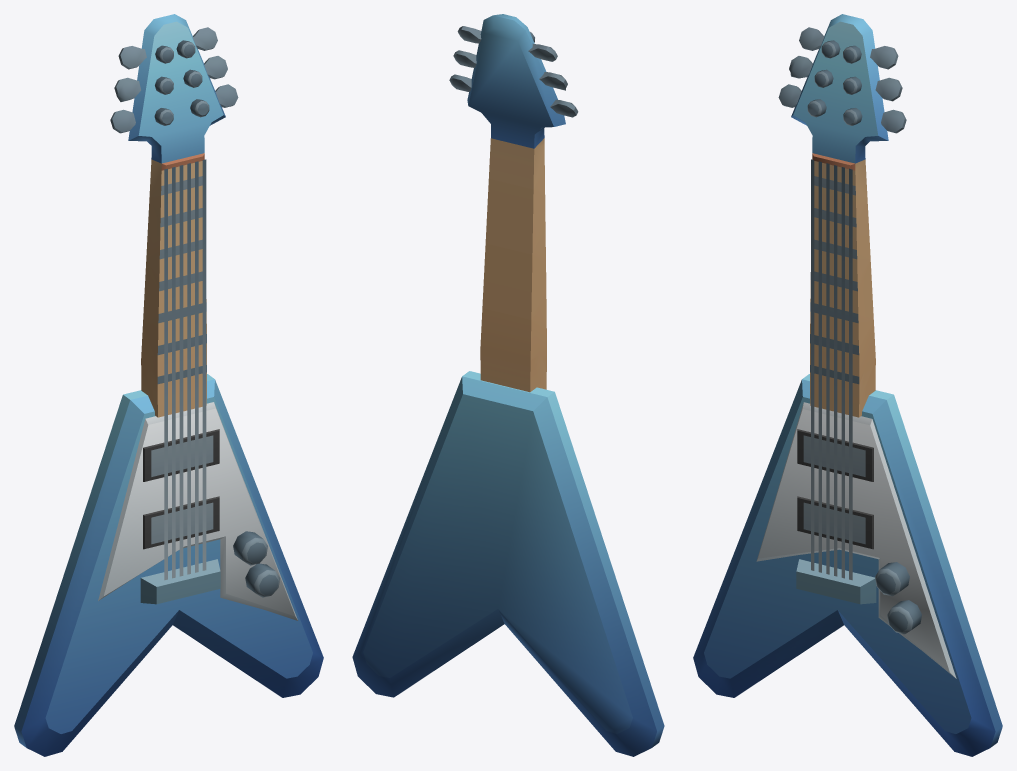
The model's file is guitar_A.glb.
3 renders of one model, left to right at view 1: azimuth 30°, elevation 25°; view 2: azimuth 150°, elevation 25°; view 3: azimuth 330°, elevation 25°, orthographic.
Visible parts, largest first — view 1: guitar_A; view 2: guitar_A; view 3: guitar_A.
Part boxes in pixels (bbox=[...]): guitar_A: bbox=[14, 14, 323, 756]; guitar_A: bbox=[352, 14, 664, 756]; guitar_A: bbox=[693, 14, 1002, 756].
Size of the model in its own units: 0.8477 by 1.88 by 0.1704.
1 material, 1 textured.
